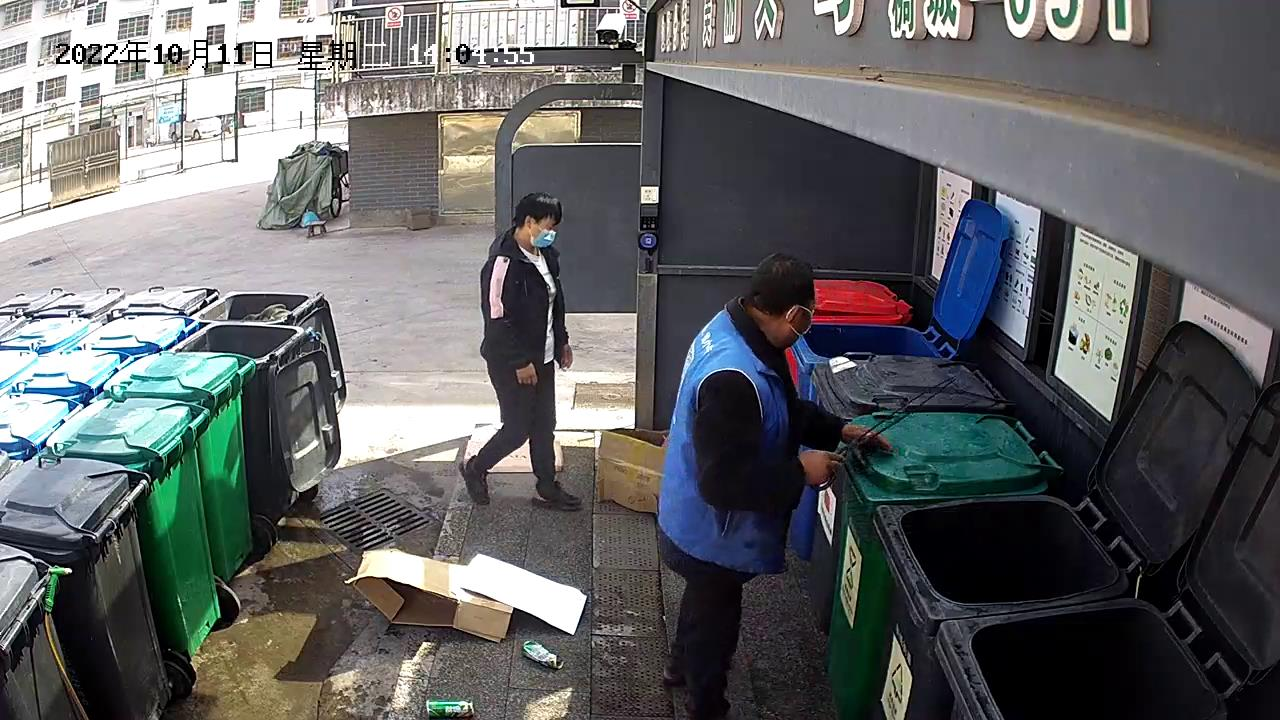lvzhipin: (520, 633, 567, 673), (424, 697, 476, 720)
person: (458, 191, 585, 514)
worker: (652, 251, 895, 720)
zhizhipin: (342, 544, 589, 647), (592, 423, 672, 515)
